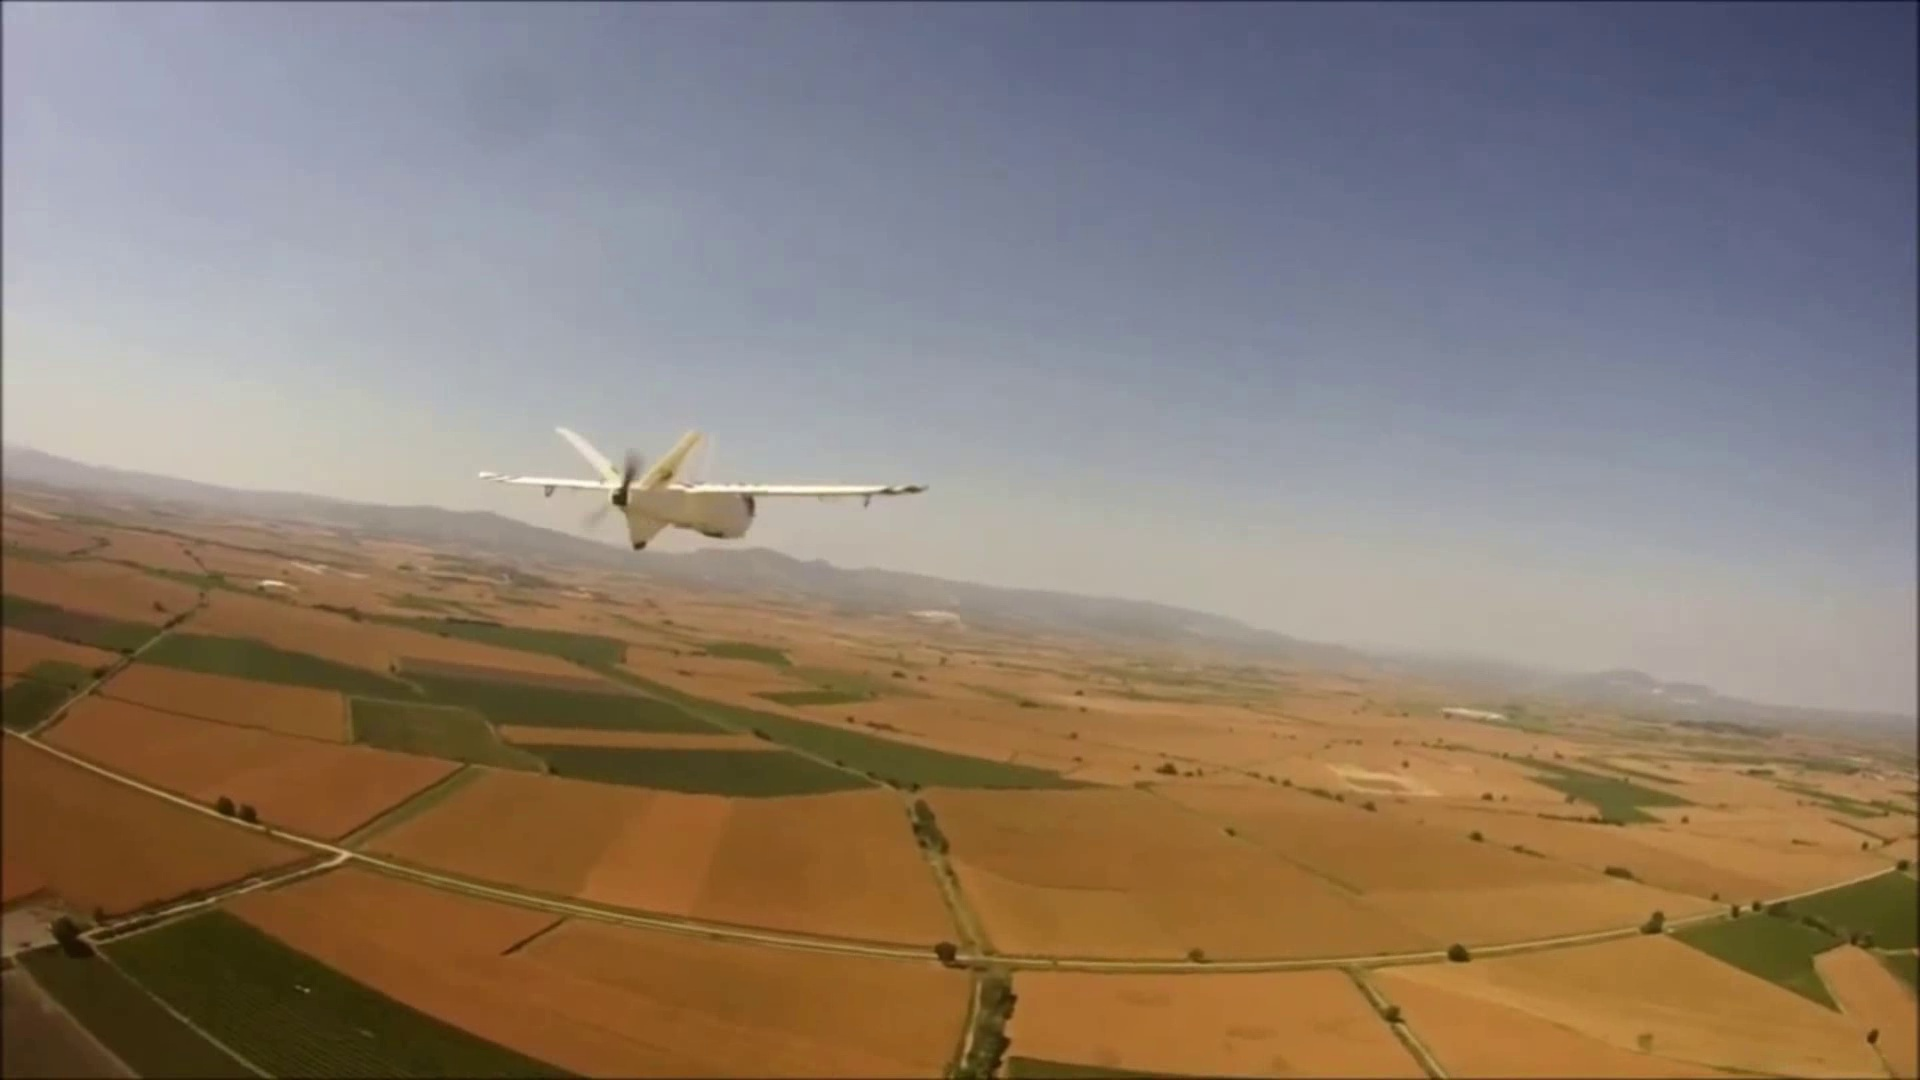airplane: (8, 438, 1882, 1065), (477, 426, 927, 553)
